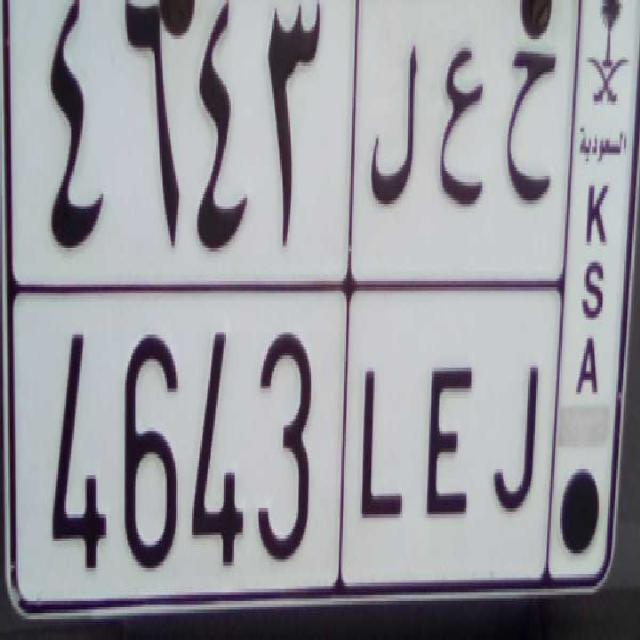license_plate: (8, 283, 558, 596)
